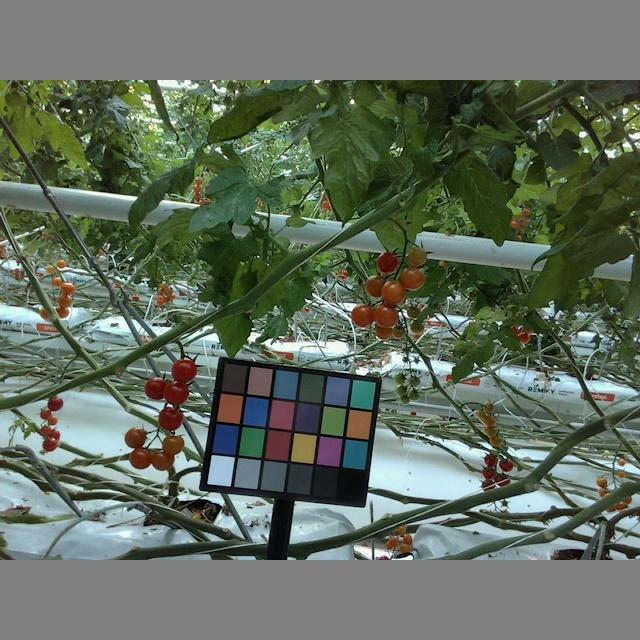green: (406, 247, 428, 262)
pink: (375, 306, 400, 327), (351, 303, 373, 326), (382, 281, 403, 303), (125, 425, 146, 447), (404, 268, 424, 288), (152, 448, 172, 468), (162, 437, 184, 454), (362, 274, 382, 292), (130, 450, 149, 467), (377, 325, 394, 340)
red: (173, 357, 197, 381), (156, 407, 183, 424), (378, 250, 397, 271), (146, 378, 165, 397)
